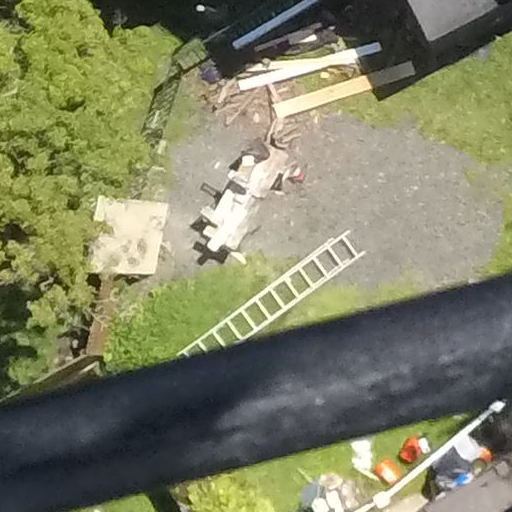bucket: (368, 453, 401, 487), (394, 434, 424, 466)
